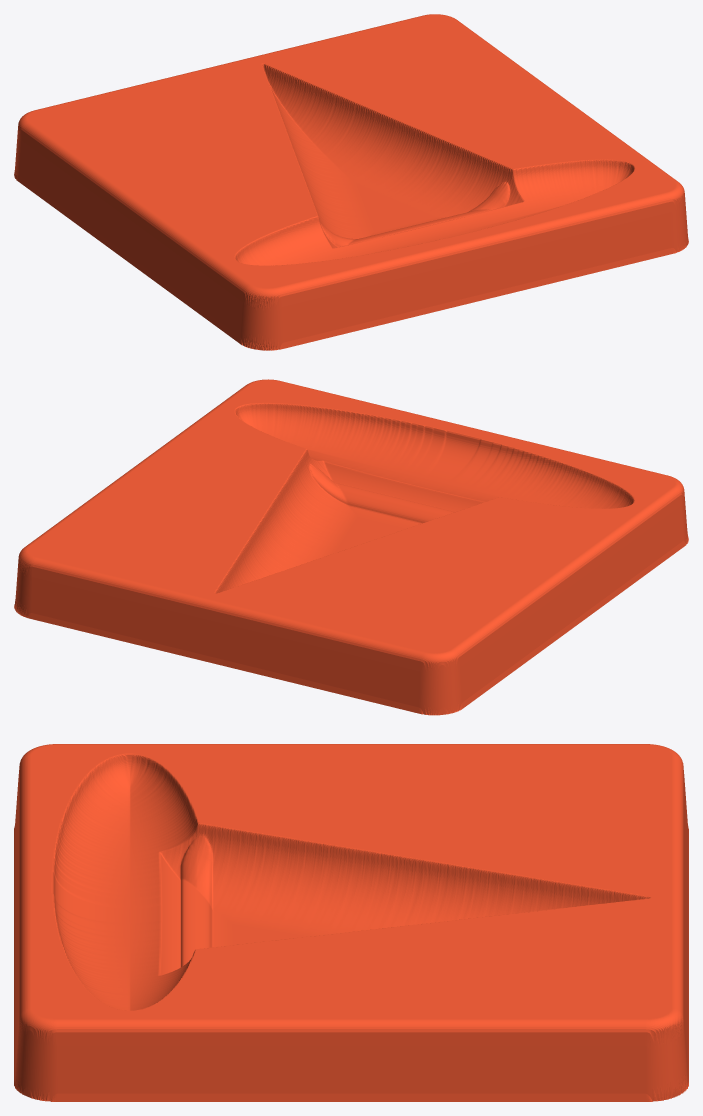
File: mold.glb
The picture shows the model from 3 angles, top to bottom: view 1: azimuth 30°, elevation 25°; view 2: azimuth 150°, elevation 25°; view 3: azimuth 270°, elevation 25°; orthographic projection. The views are drawn at different scales.
Parts seen in each view (by area): view 1: geometry_0; view 2: geometry_0; view 3: geometry_0.
Part boxes in pixels (x1,y1,x2,y2): geometry_0: (14, 14, 688, 350); geometry_0: (14, 379, 688, 715); geometry_0: (14, 744, 688, 1101).
Size of the model in its own units: 0.1435 by 0.0175 by 0.1418.
